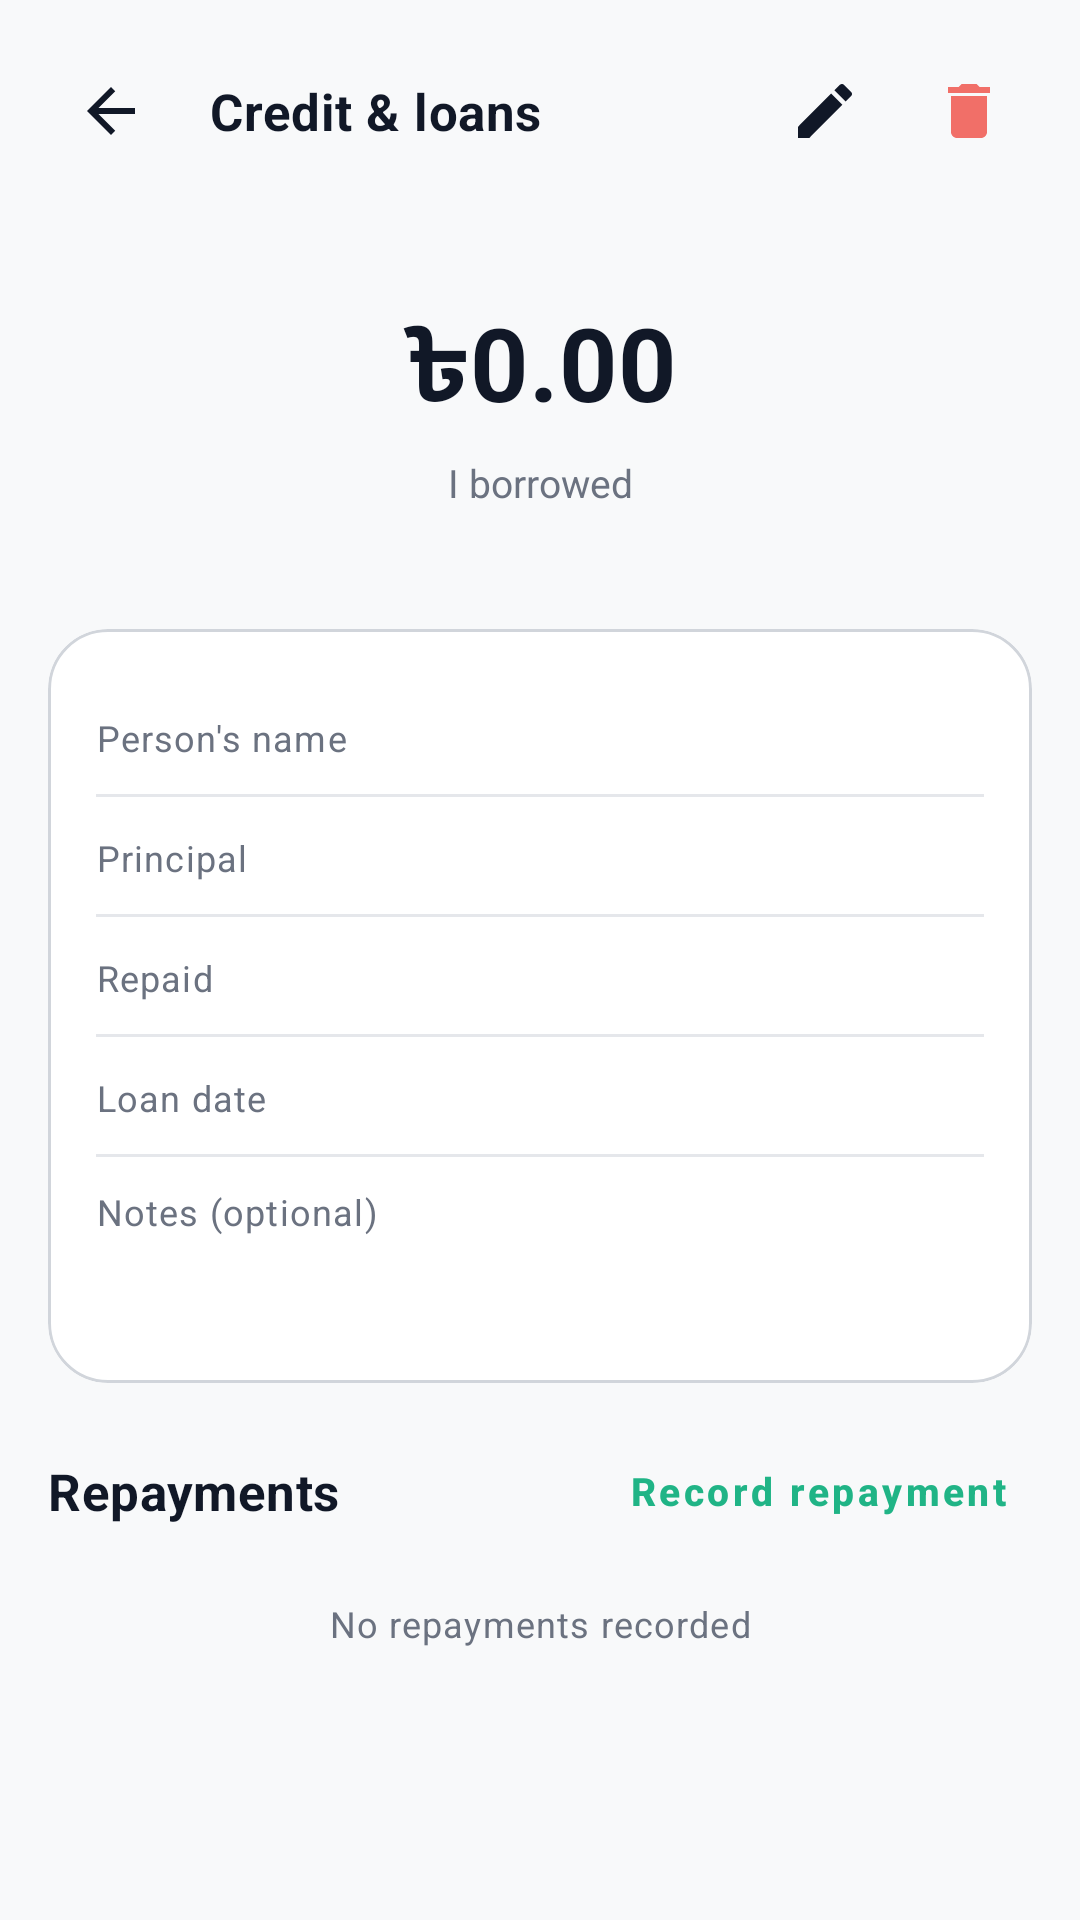

Named icons in this screenshot (1080px x 1920px) and their centers, point (x, y):
Back: point (111, 111)
Delete: point (969, 111)
